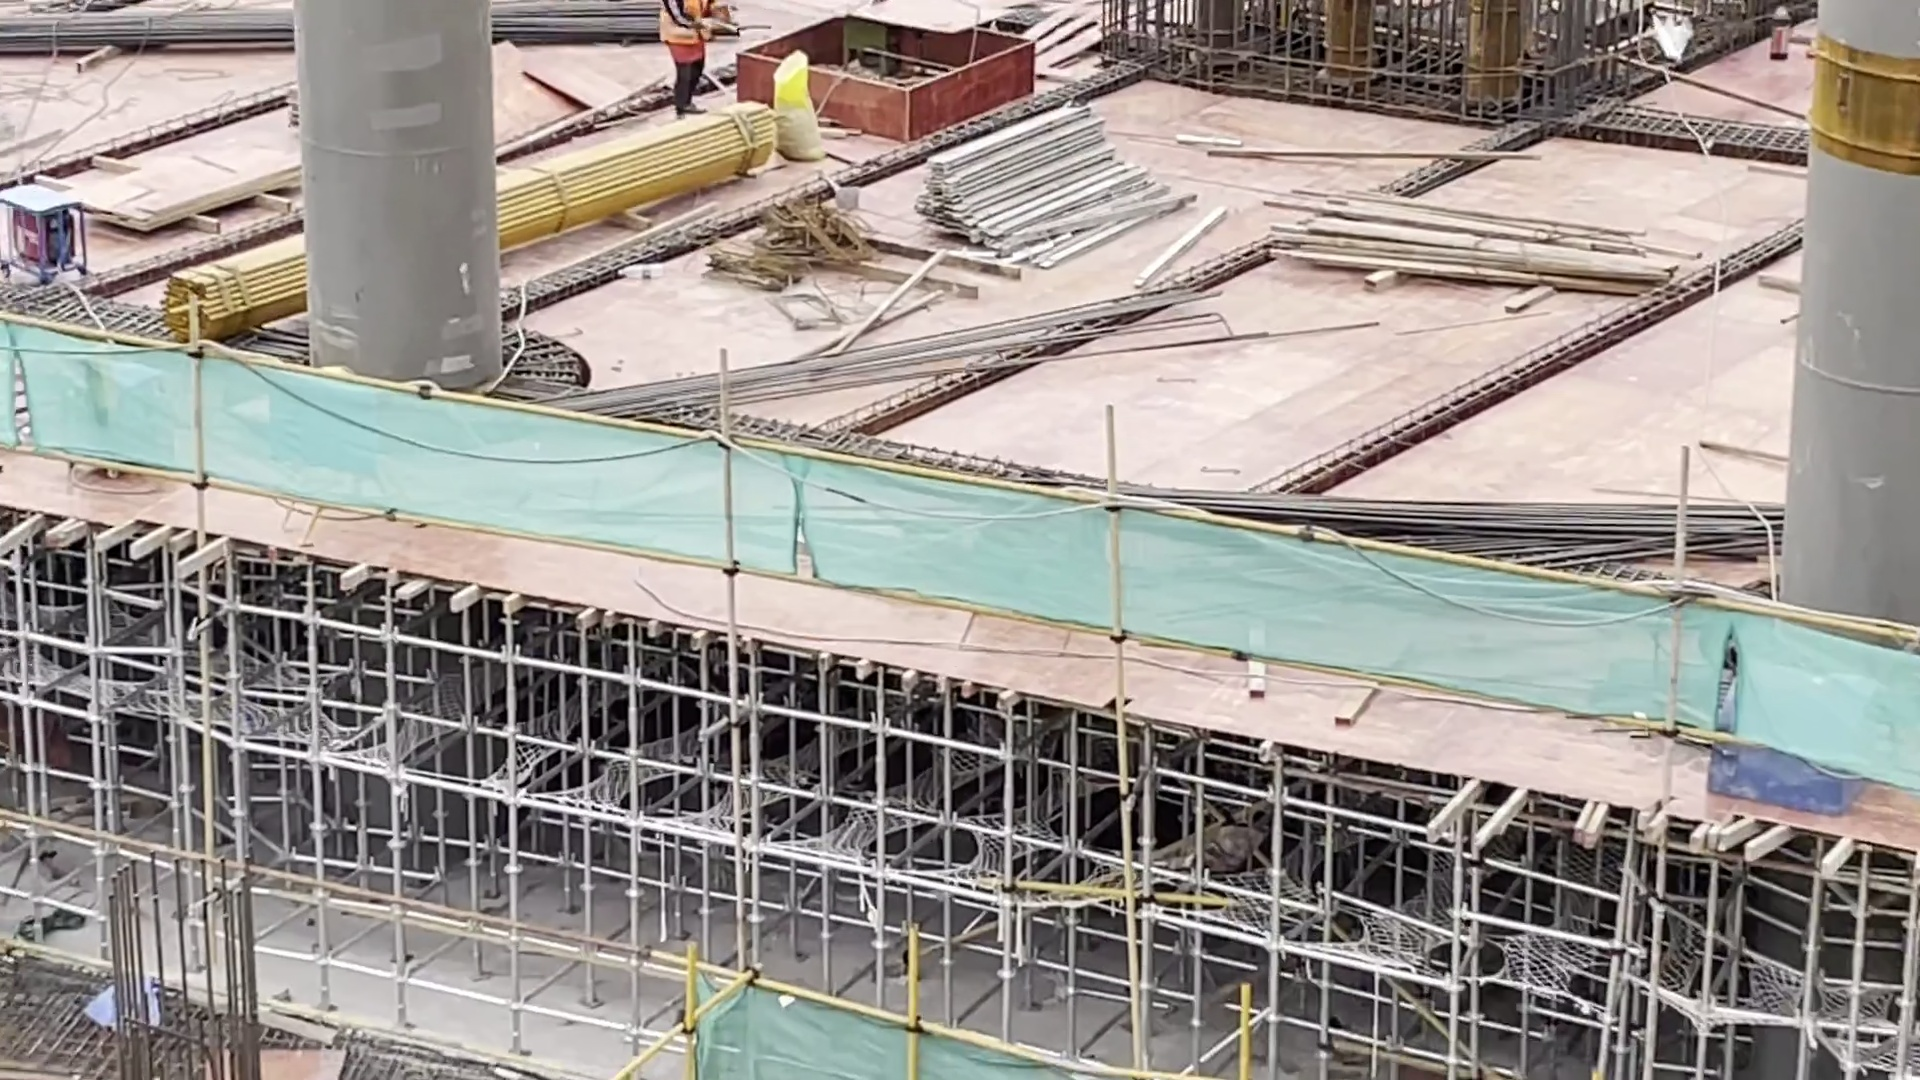person: (658, 1, 720, 126)
rebar: (1110, 468, 1789, 572)
vest: (659, 1, 706, 50)
wood: (869, 108, 1189, 267)
